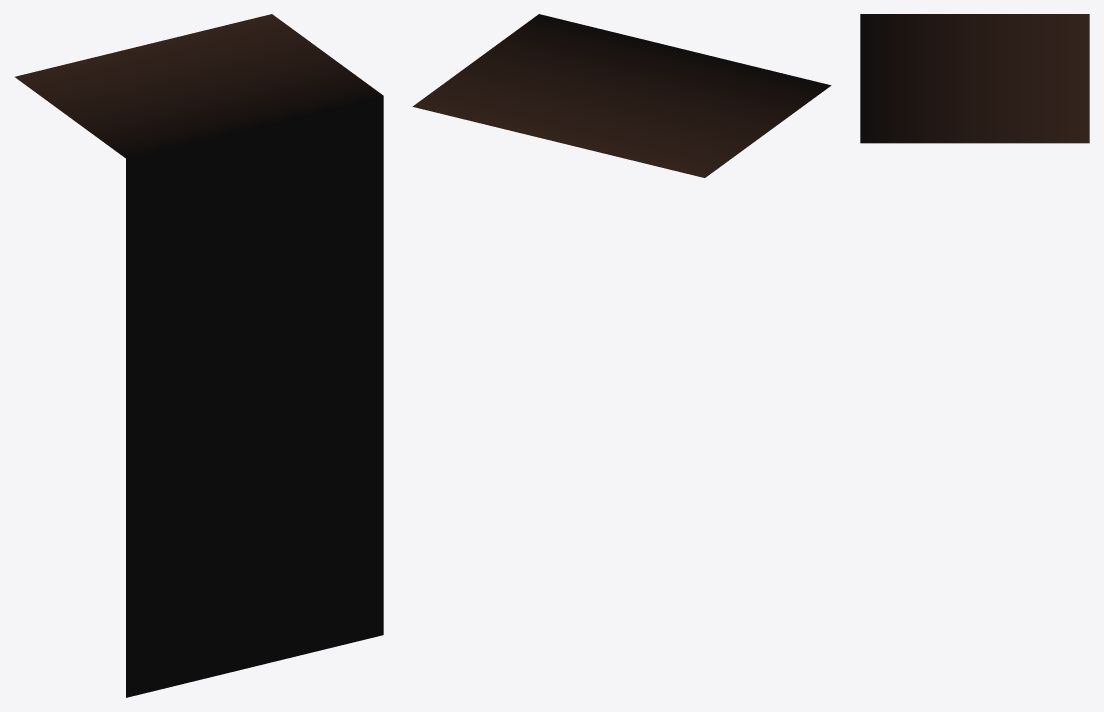
3 views of the same model, side by side, from view 1: azimuth 30°, elevation 25°; view 2: azimuth 150°, elevation 25°; view 3: azimuth 270°, elevation 25° (orthographic). The views are drawn at different scales.
Size of the model in its own units: 1 by 2 by 0.75.
1 material, 1 textured.
